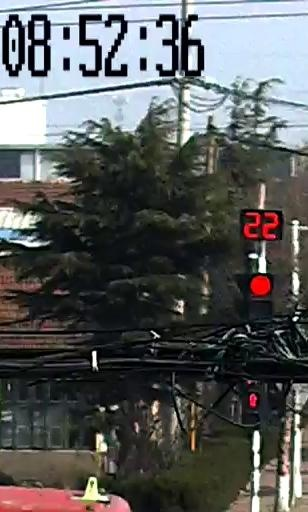red: (247, 272, 270, 301)
redpeople: (244, 389, 264, 411)
redtime: (238, 206, 283, 243)
